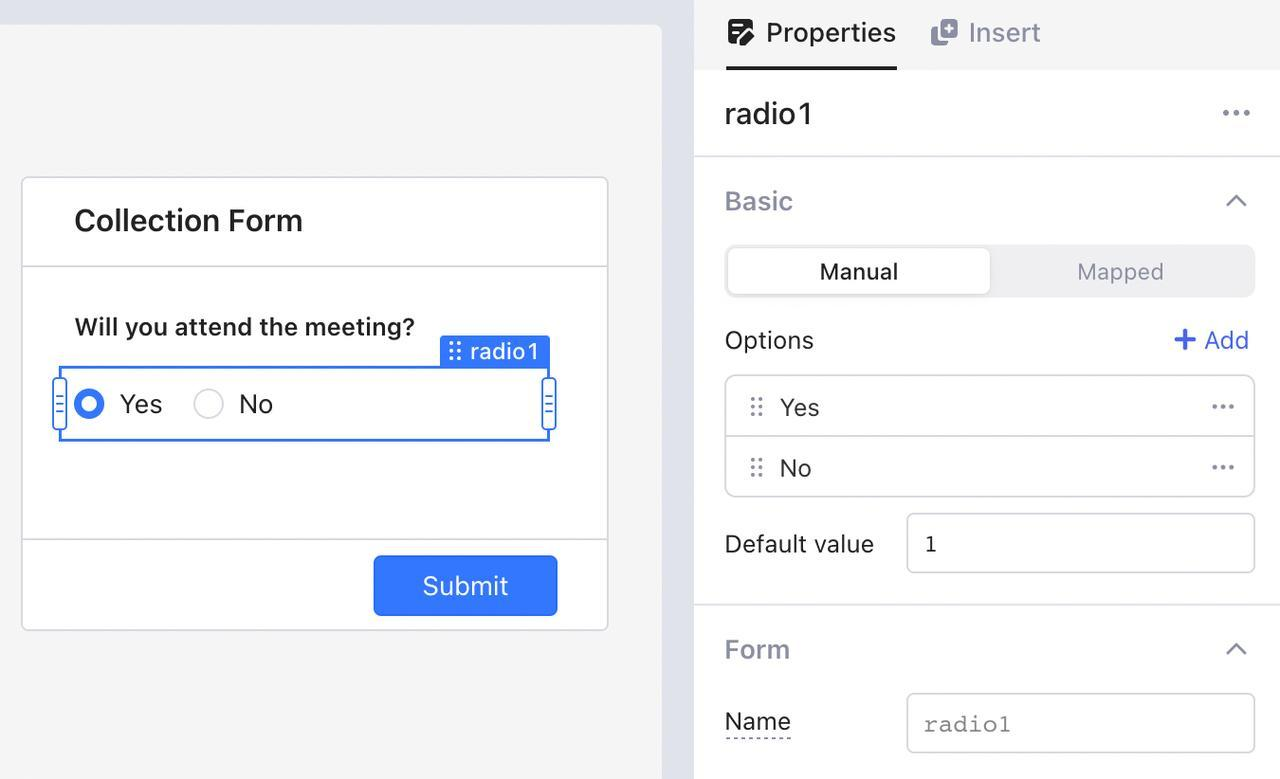button: (727, 434, 1255, 498), (727, 377, 1255, 437), (727, 249, 992, 296), (375, 556, 559, 618)
dropdown: (695, 155, 1280, 238), (697, 604, 1280, 687)
icon: (929, 17, 962, 51), (725, 17, 757, 49), (1216, 103, 1259, 125), (1174, 325, 1199, 356)
input: (909, 695, 1254, 754), (909, 515, 1255, 572)
label: (69, 309, 419, 344), (64, 197, 309, 243), (723, 531, 884, 565), (720, 94, 833, 141), (717, 322, 832, 362), (762, 19, 901, 49), (1071, 257, 1173, 291), (724, 709, 805, 744), (969, 21, 1046, 47), (118, 388, 167, 423), (237, 388, 281, 420), (1208, 329, 1251, 353)
radio: (71, 388, 107, 421), (192, 388, 226, 421)
